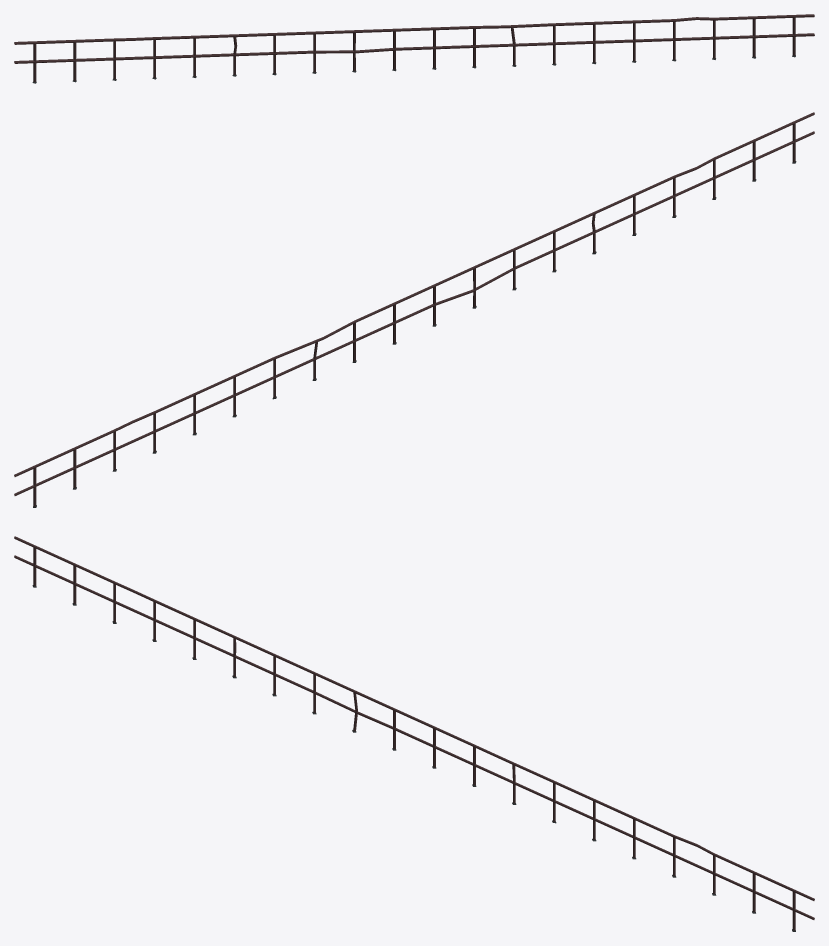
The model's file is SW_ENV_EL_Railing_Rise_20m.fbx.
3 renders of one model, top to bottom at view 1: azimuth 30°, elevation 25°; view 2: azimuth 210°, elevation 25°; view 3: azimuth 330°, elevation 25°, orthographic.
Visible parts, largest first — view 1: SW_ENV_EL_Railing_Rise_20m; view 2: SW_ENV_EL_Railing_Rise_20m; view 3: SW_ENV_EL_Railing_Rise_20m.
Boxes of the visible parts, box(x1,y1,x2,y2) form: SW_ENV_EL_Railing_Rise_20m: box(14, 14, 814, 83); SW_ENV_EL_Railing_Rise_20m: box(14, 112, 814, 507); SW_ENV_EL_Railing_Rise_20m: box(14, 536, 814, 931).
Size of the model in its own units: 20 by 4.91 by 0.1418.
